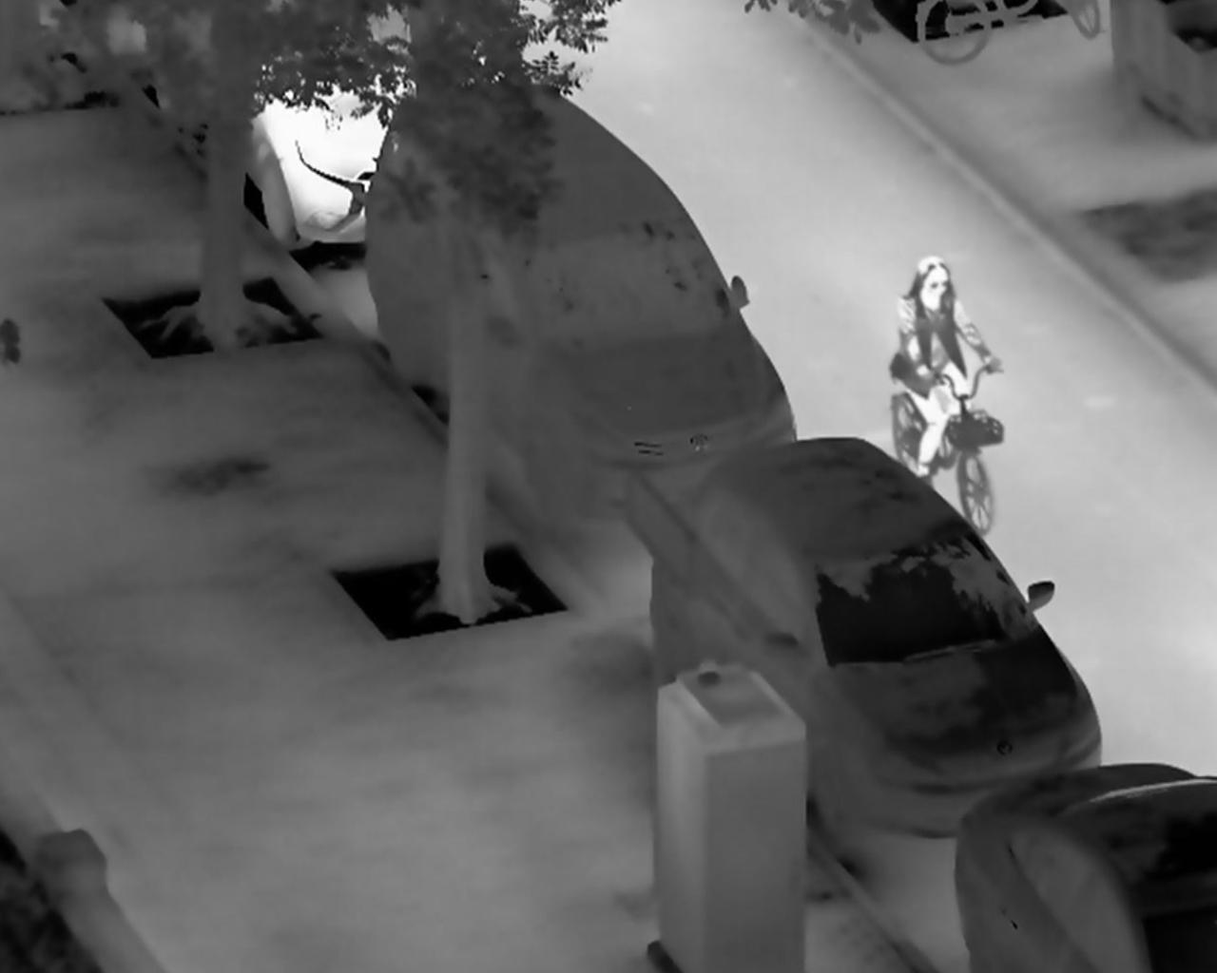person: (889, 253, 1007, 485)
